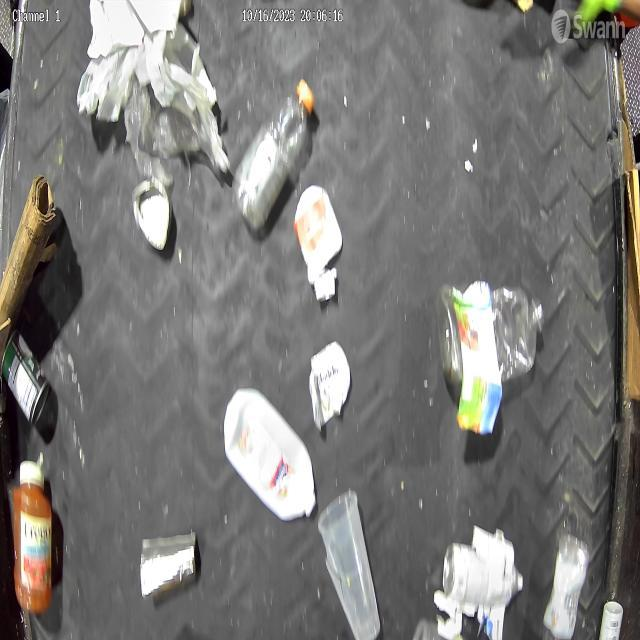can: (1, 330, 52, 424), (131, 176, 172, 252)
milk_jug: (224, 388, 318, 520)
plastic_bottle: (232, 78, 315, 234), (435, 278, 546, 386)
